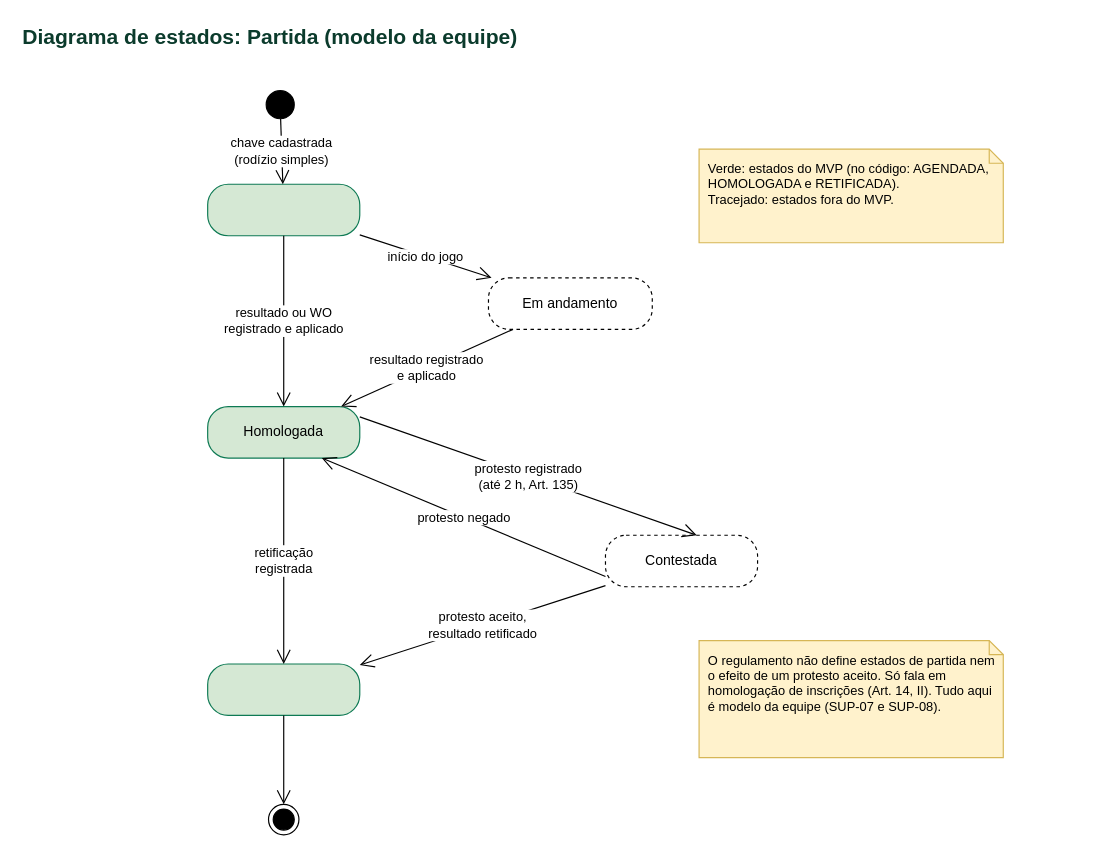
Image size: 1093x855. Some labels were removed from this diagram. The shapes that lost their labels are listed below. From the top down, each one's centre as x and y in pixels, then its label:
At point 283,209: "Agendada".
At point 283,689: "Recalculada".
